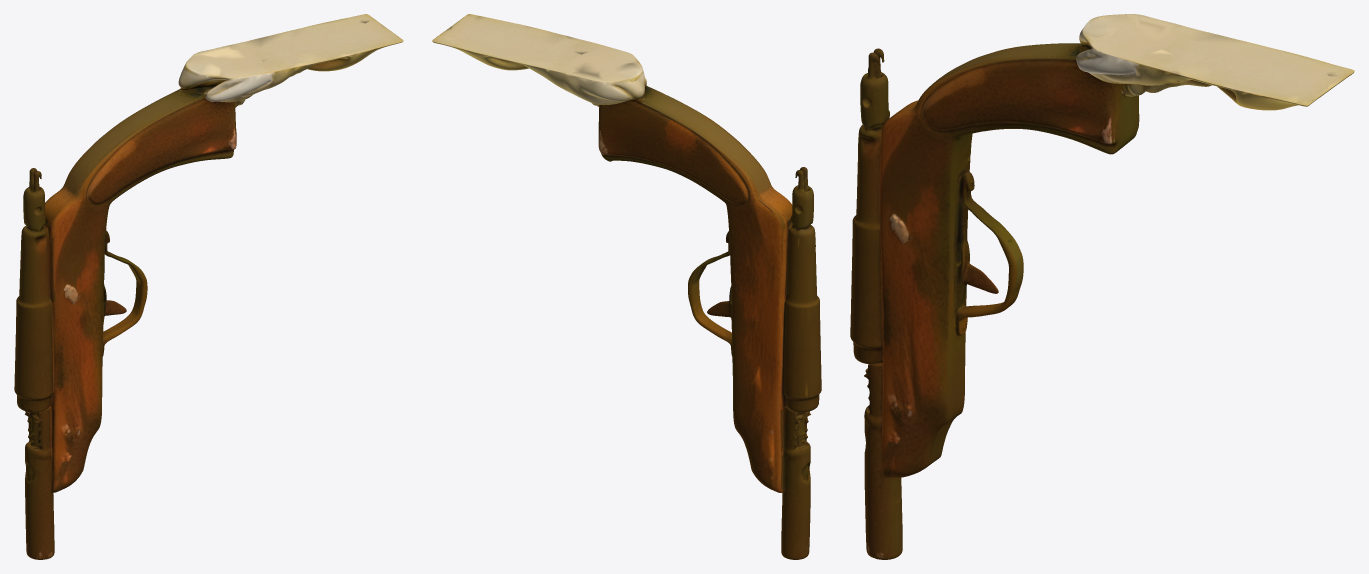
3 renders of one model, left to right at view 1: azimuth 30°, elevation 25°; view 2: azimuth 150°, elevation 25°; view 3: azimuth 330°, elevation 25°, orthographic. The views are drawn at different scales.
Visible parts, largest first — view 1: node_0; view 2: node_0; view 3: node_0.
Part boxes in pixels (left/top/right/bottom): node_0: left=14, top=14, right=403, bottom=559; node_0: left=432, top=14, right=821, bottom=559; node_0: left=850, top=14, right=1354, bottom=559.
Size of the model in its own units: 0.7847 by 0.9044 by 0.1504.
1 material, 1 textured.
